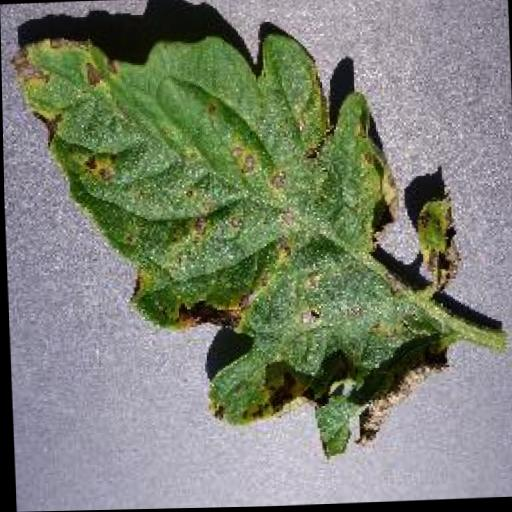Septoria: (5, 20, 459, 473)
